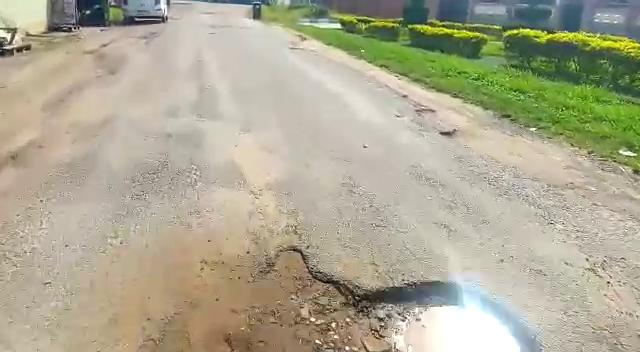pothole: (156, 246, 543, 352)
